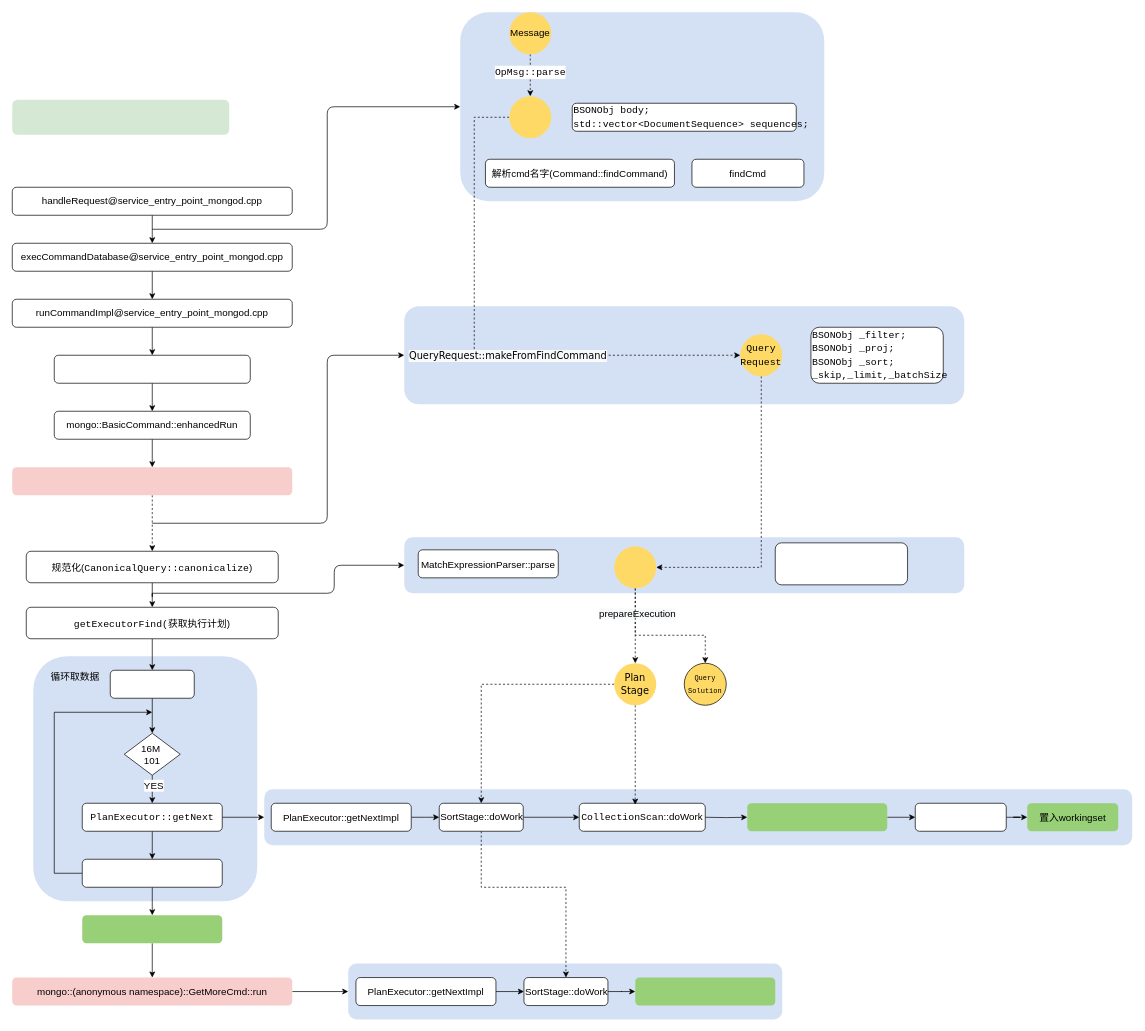
This 1145x1031 diagram has some shape labels left out. The shapes that lost their labels are listed below. From the top down, each one's centre as x and y in pixels, then its label:
the point at 120,116: filter = {'cate' => "chinese"} sort = {'level' => -1}
the point at 530,117: OpMsg Request
the point at 152,369: mongo::Command::publicRun
the point at 152,481: mongo::(anonymous namespace)::FindCmd::run
the point at 635,567: Canonical Query
the point at 841,563: QueryRequest _qr MatchExpression _root ; ParsedProjection _proj ;
the point at 152,684: 读取第一批
the point at 817,817: wiredTiger游标seekExact
the point at 960,817: 条件过滤
the point at 152,873: append
the point at 152,929: 保存游标
the point at 705,991: 游标遍历数据
